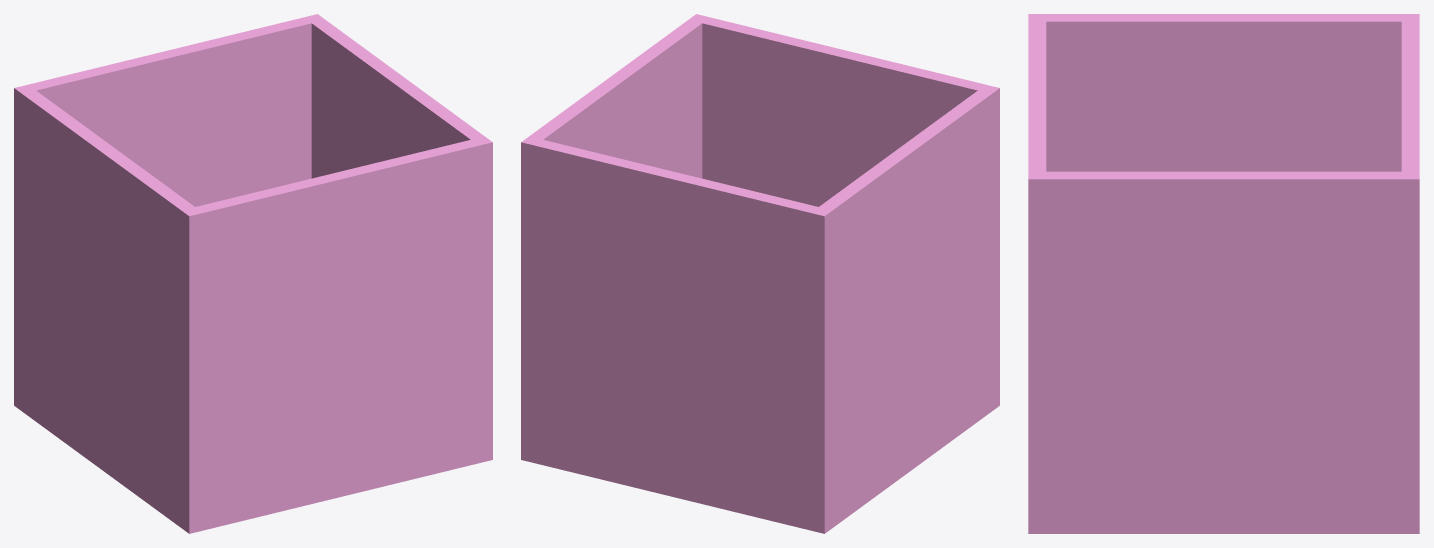
The picture shows the model from 3 angles, left to right: view 1: azimuth 30°, elevation 25°; view 2: azimuth 150°, elevation 25°; view 3: azimuth 270°, elevation 25°; orthographic projection. The views are drawn at different scales.
Parts seen in each view (by area): view 1: Cube; view 2: Cube; view 3: Cube.
Part boxes in pixels (x1,y1,x2,y2): Cube: [14, 14, 492, 533]; Cube: [521, 14, 999, 533]; Cube: [1028, 14, 1419, 533].
Size of the model in its own units: 200 by 200 by 200.
